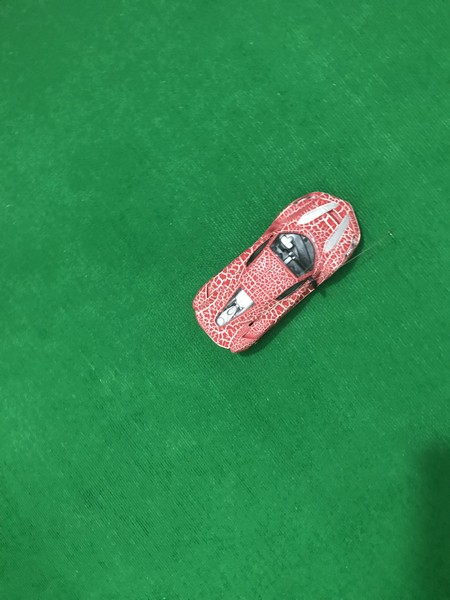RC: (190, 190, 364, 358)
